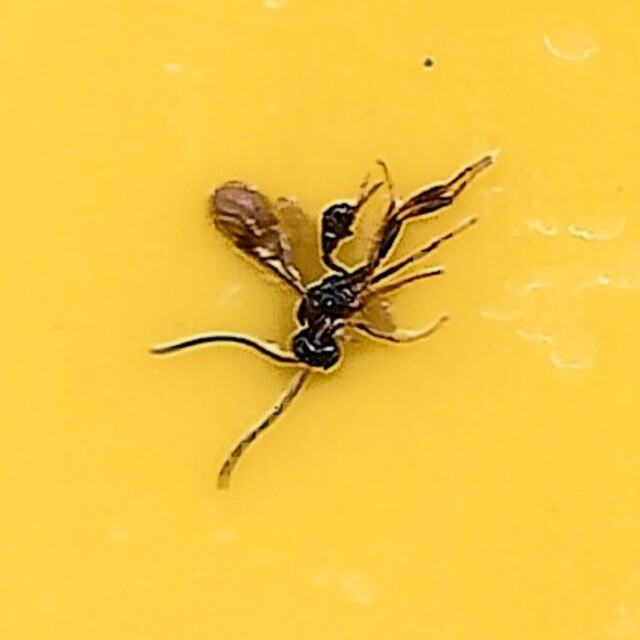Hymenoptera: (150, 155, 490, 485)
